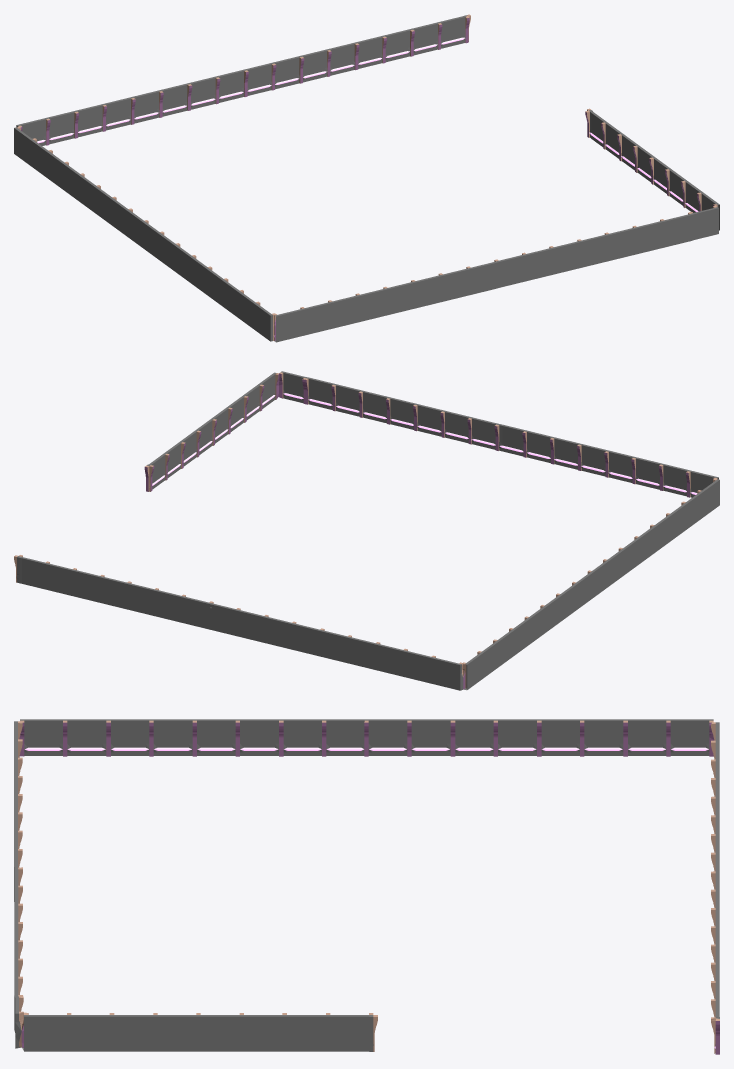
File: wallsever.fbx
3 renders of one model, top to bottom at view 1: azimuth 30°, elevation 25°; view 2: azimuth 150°, elevation 25°; view 3: azimuth 270°, elevation 25°, orthographic. The views are drawn at different scales.
Parts seen in each view (by area): view 1: wallglass; view 2: wallglass; view 3: wallglass.
Boxes of the visible parts, box(x1,y1,x2,y2) form: wallglass: box(14, 14, 719, 342); wallglass: box(14, 371, 719, 690); wallglass: box(14, 719, 719, 1054).
Size of the model in its own units: 990 by 54.61 by 978.
